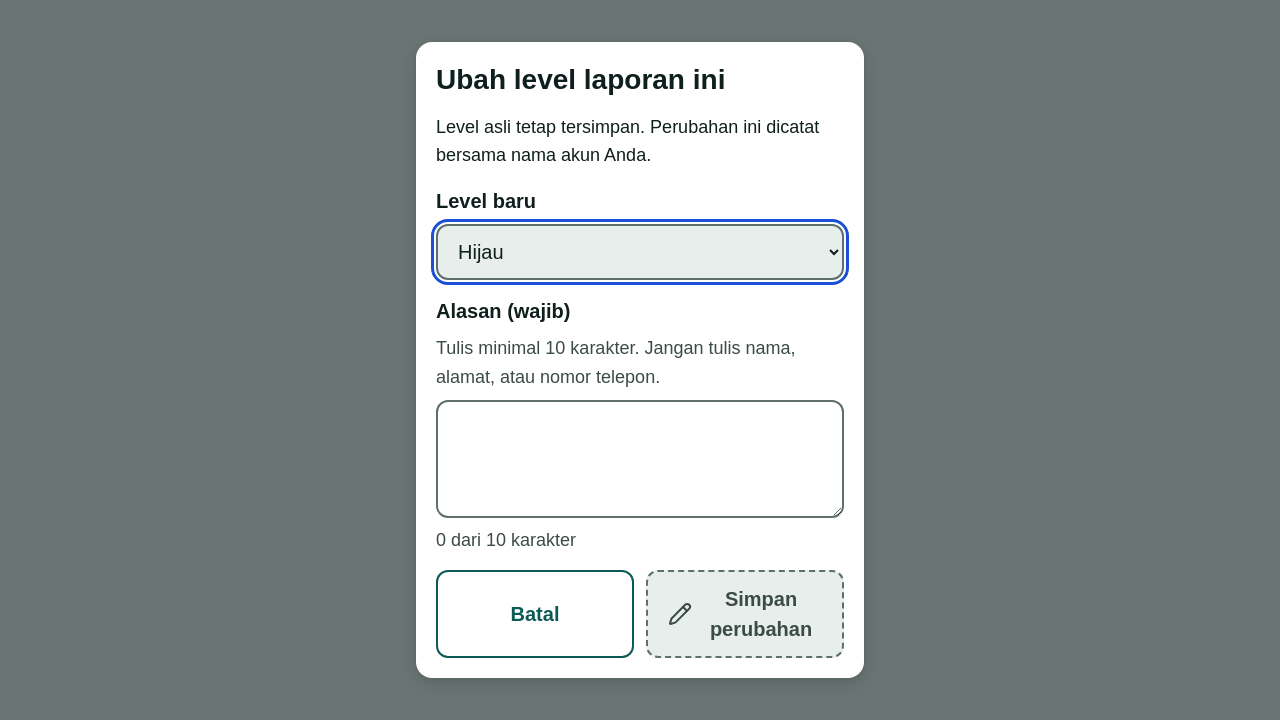
Test: OverrideDialog (nurse-queue 5.6) › from RED it offers GREEN and YELLOW, and a server error stays in the dialog
This screenshot has width=1280, height=720.
Type "Sudah ditelepon, kulit tidak kuning" into the text box labelled "Alasan (wajib)" at point(640, 459), box [436,400,844,518]
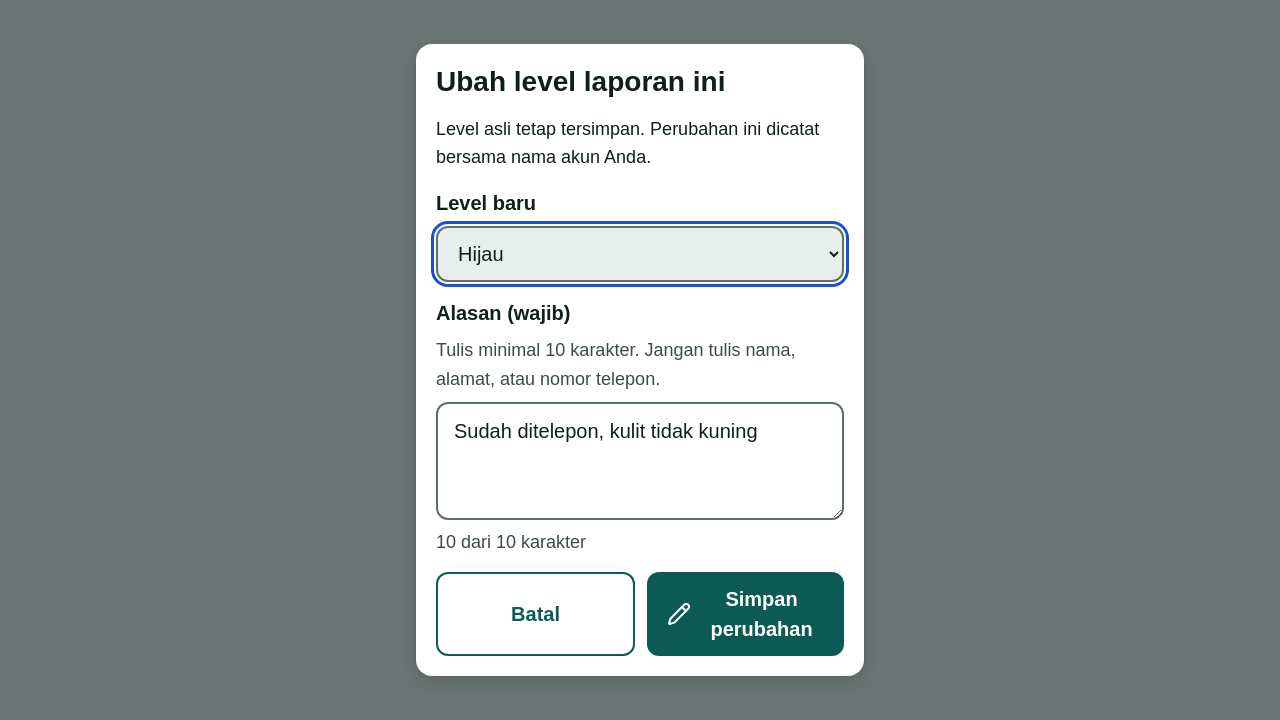
Click the button "Simpan perubahan" at point(746, 614), box [647,572,844,656]
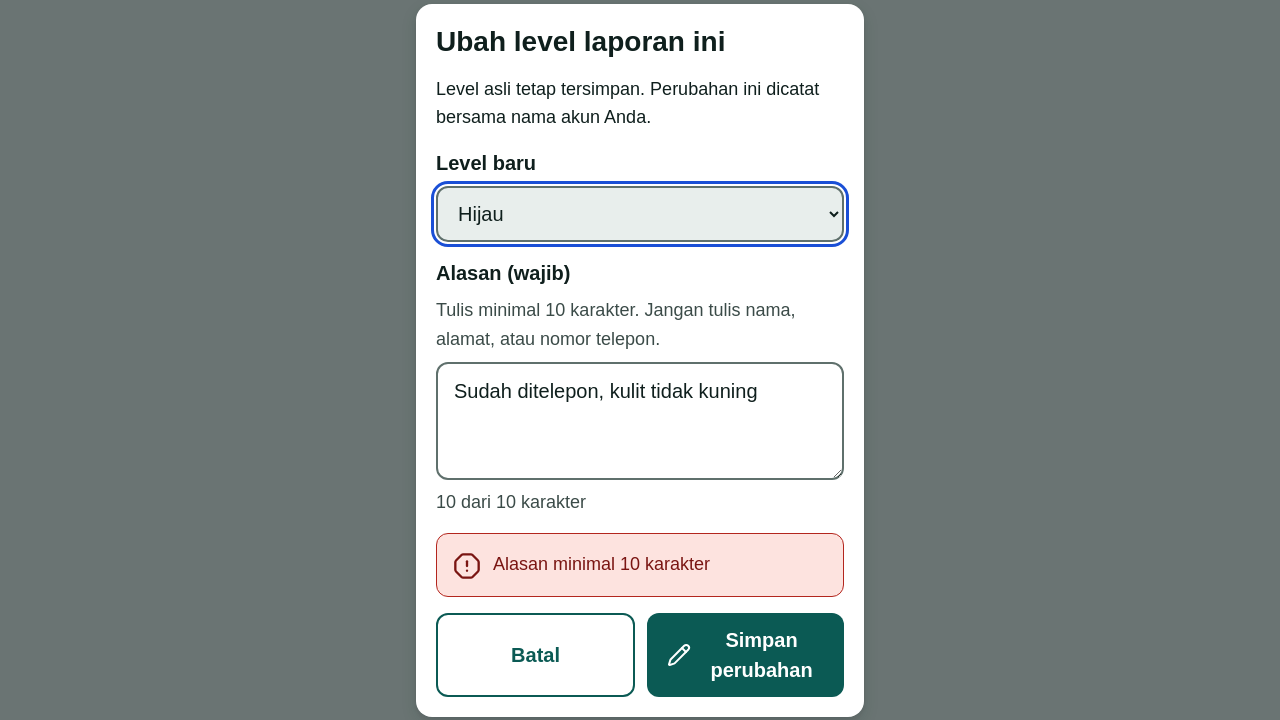
Check: the message reads "Alasan minimal 10 karakter", box [493,554,710,574]
